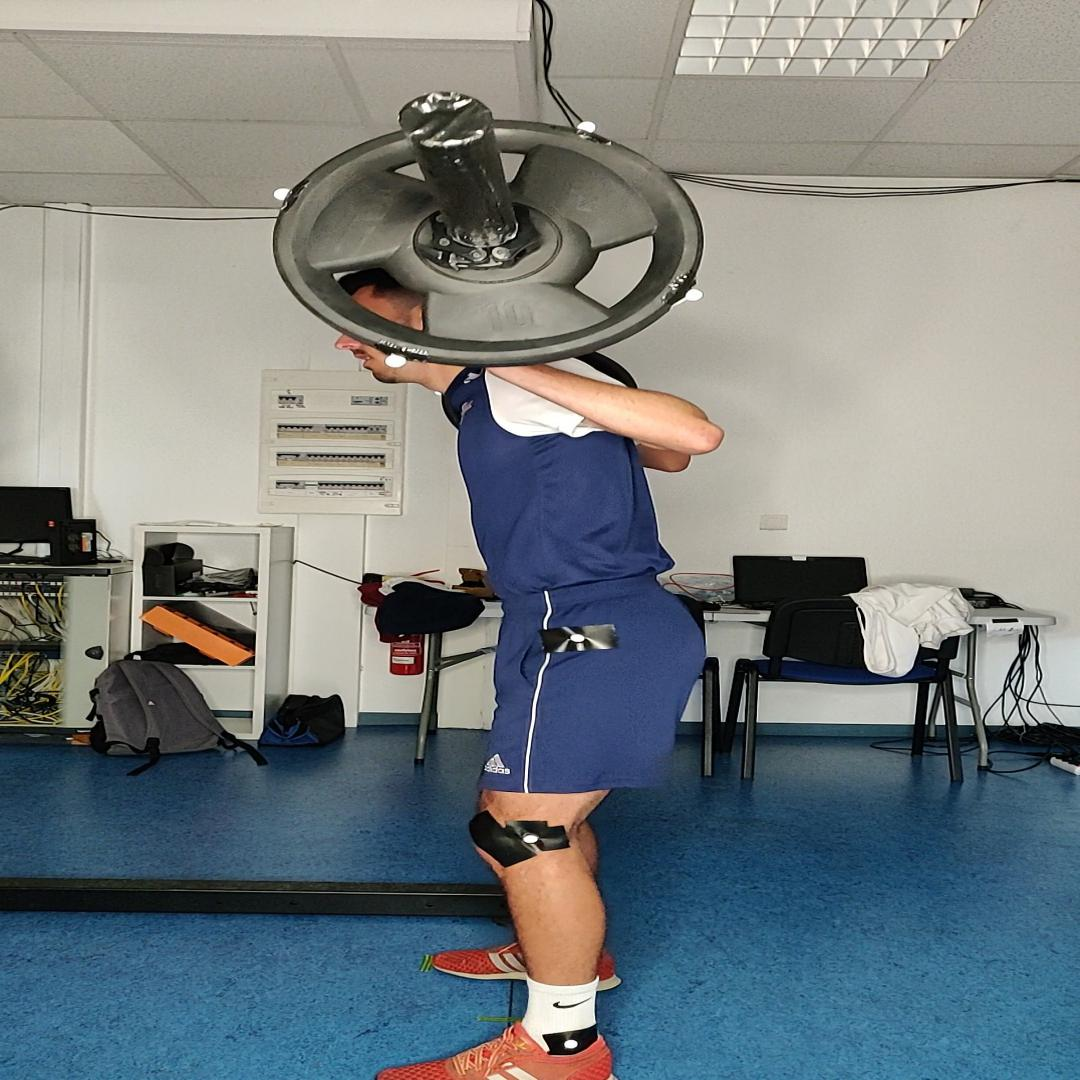Bar: (399, 91, 494, 147)
Barbell: (274, 120, 704, 366)
